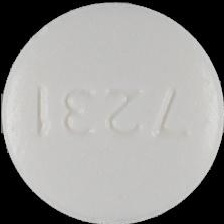0615-7747: (0, 0, 224, 224)
